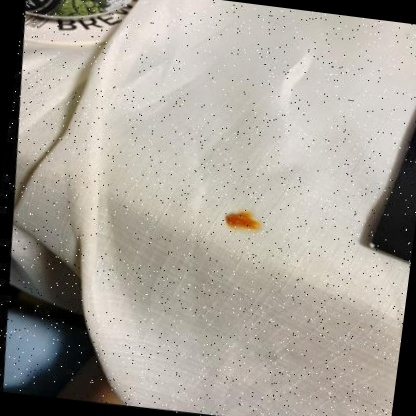kimchi: (222, 205, 269, 236)
